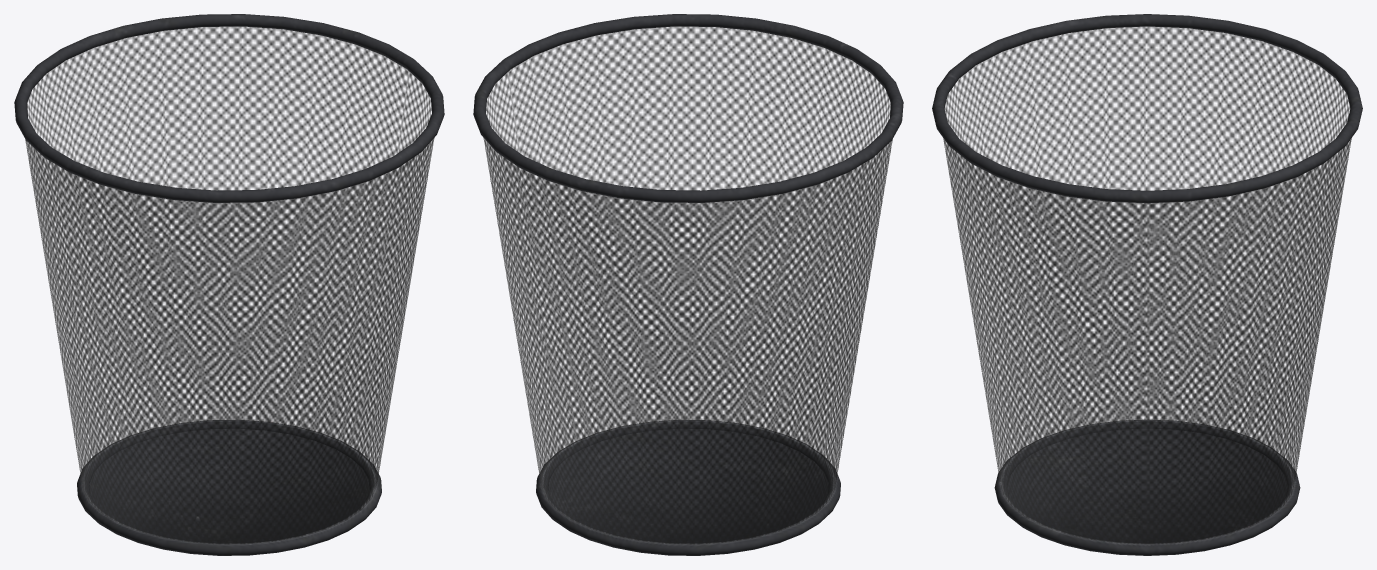
Rendered from bin.glb.
The picture shows the model from 3 angles, left to right: view 1: azimuth 30°, elevation 25°; view 2: azimuth 150°, elevation 25°; view 3: azimuth 270°, elevation 25°; orthographic projection.
Parts seen in each view (by area): view 1: SM_TrashCan; view 2: SM_TrashCan; view 3: SM_TrashCan.
Part boxes in pixels (bbox=[...]): SM_TrashCan: bbox=[14, 14, 444, 555]; SM_TrashCan: bbox=[473, 14, 903, 555]; SM_TrashCan: bbox=[932, 14, 1362, 555].
Bounding box in the file's own units: 0.2678 × 0.2678 × 0.2678.
1 material, 1 textured.
